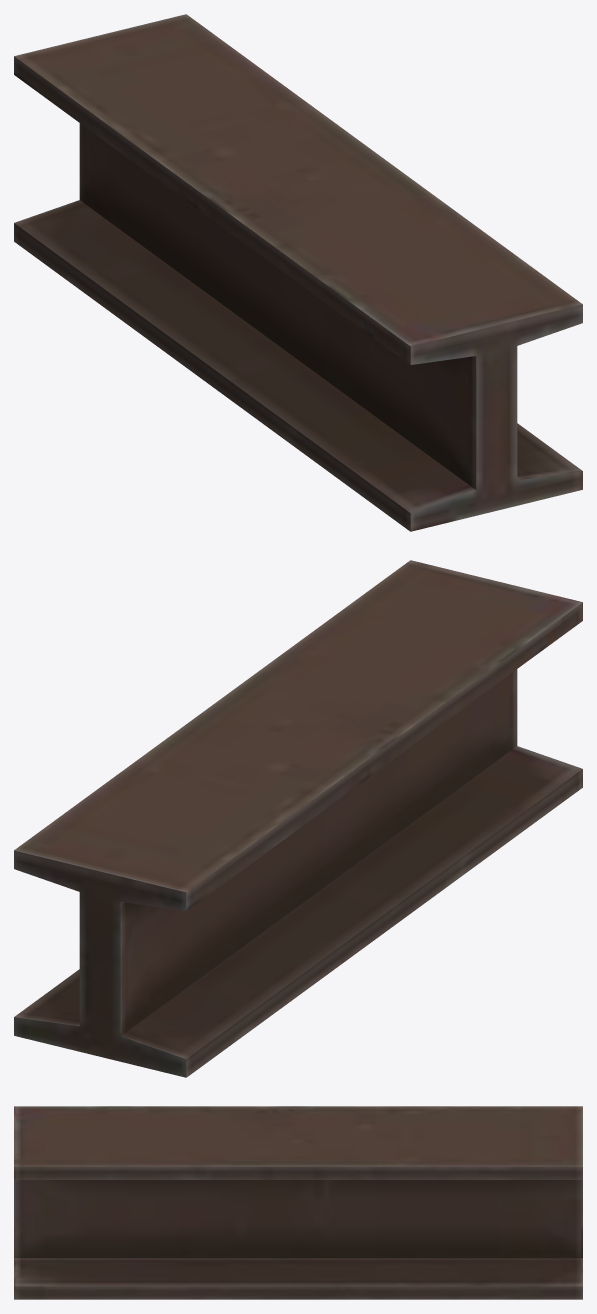
The model's file is i-beam.gltf.
The picture shows the model from 3 angles, top to bottom: view 1: azimuth 30°, elevation 25°; view 2: azimuth 150°, elevation 25°; view 3: azimuth 270°, elevation 25°; orthographic projection. The views are drawn at different scales.
Visible parts, largest first — view 1: Cube.051; view 2: Cube.051; view 3: Cube.051.
Part boxes in pixels (x1=…): Cube.051: x1=14, y1=14, x2=582, y2=531; Cube.051: x1=14, y1=560, x2=582, y2=1077; Cube.051: x1=14, y1=1106, x2=582, y2=1299.
Size of the model in its own units: 0.3408 by 0.35 by 1.36.
Materials: 1 (1 with a texture image).
